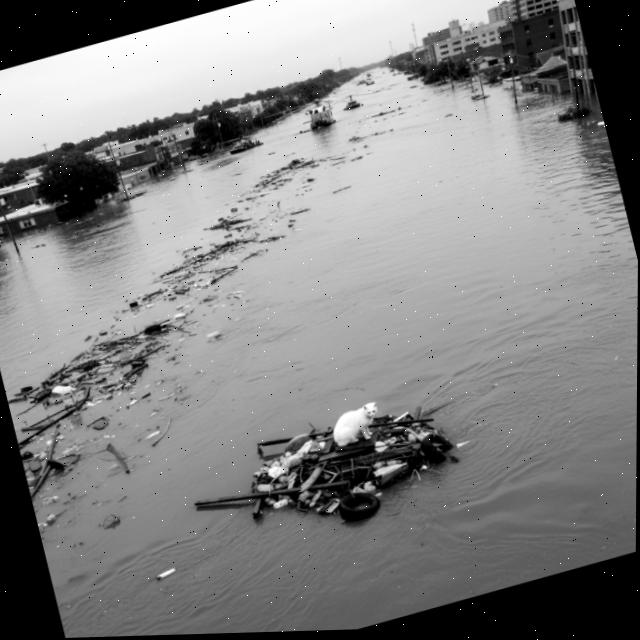cat: (322, 383, 393, 460)
